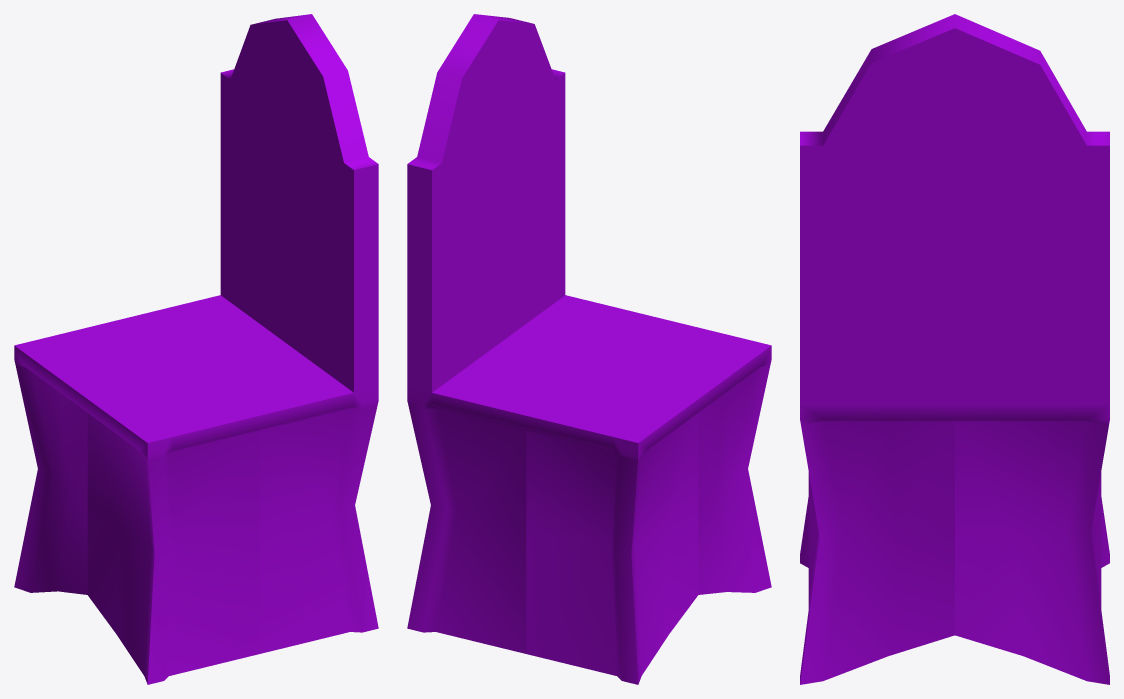
The model's file is sm_chair1_low.fbx.
3 renders of one model, left to right at view 1: azimuth 30°, elevation 25°; view 2: azimuth 150°, elevation 25°; view 3: azimuth 270°, elevation 25°, orthographic. The views are drawn at different scales.
Visible parts, largest first — view 1: pCube4; view 2: pCube4; view 3: pCube4.
Boxes of the visible parts, x1,y1,x2,y2 form: pCube4: (14, 14, 378, 684); pCube4: (407, 14, 771, 684); pCube4: (800, 14, 1109, 684).
Size of the model in its own units: 162 by 379 by 162.
